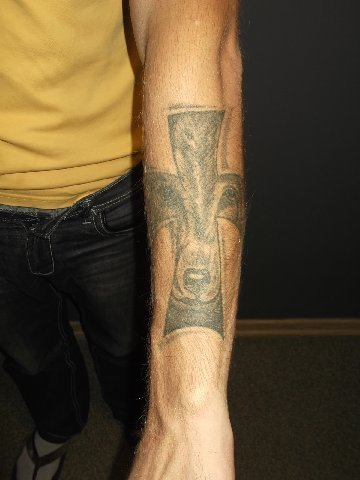tatu9_krest: (147, 103, 248, 340)
